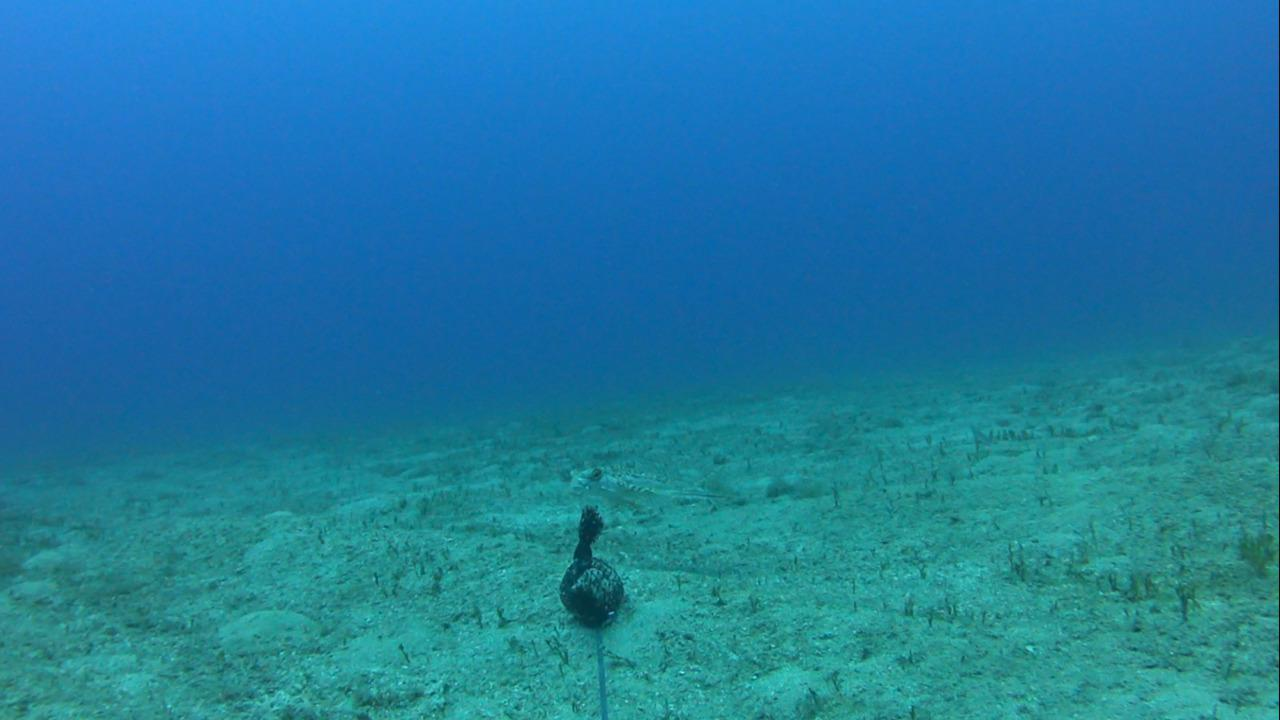dactylopterus: (562, 460, 731, 534)
